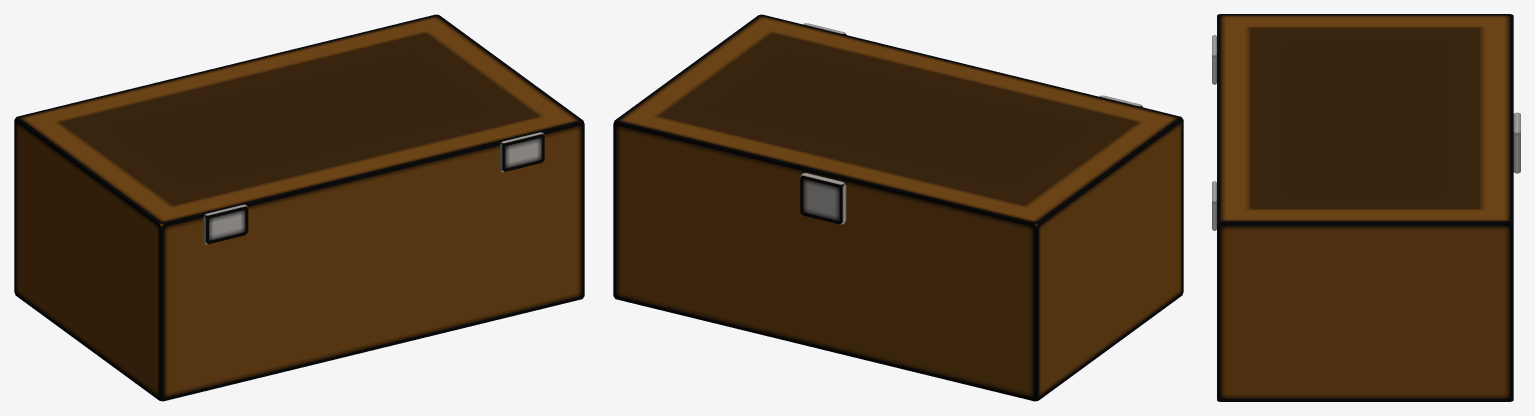
Rendered from chest.fbx.
3 renders of one model, left to right at view 1: azimuth 30°, elevation 25°; view 2: azimuth 150°, elevation 25°; view 3: azimuth 270°, elevation 25°, orthographic.
Parts seen in each view (by area): view 1: cube, cube_2, cube_3; view 2: cube, cube_1; view 3: cube, cube_1.
Boxes of the visible parts, bbox=[...] form: cube: bbox=[14, 14, 584, 401]; cube_2: bbox=[203, 204, 248, 244]; cube_3: bbox=[500, 132, 544, 171]; cube: bbox=[613, 14, 1183, 401]; cube_1: bbox=[800, 173, 846, 224]; cube: bbox=[1217, 14, 1513, 401]; cube_1: bbox=[1513, 112, 1520, 173].
Size of what is drawn, in the model's own units: 125 by 50 by 78.11.
